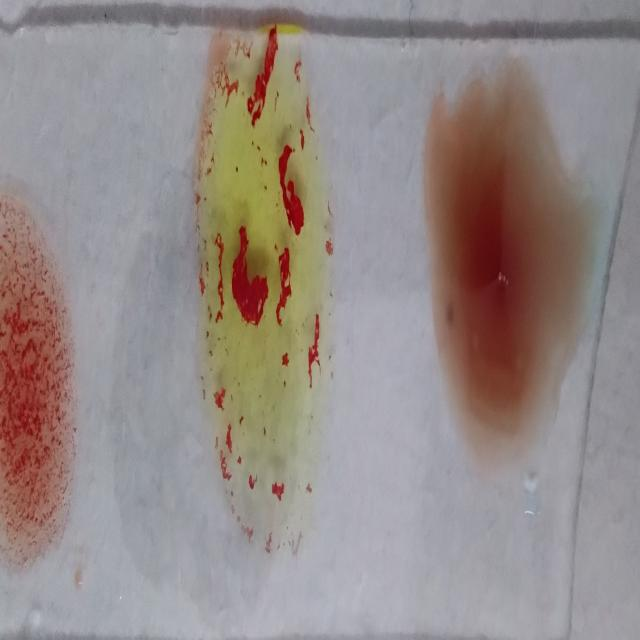B: (200, 35, 332, 572)
D: (0, 199, 78, 568)
